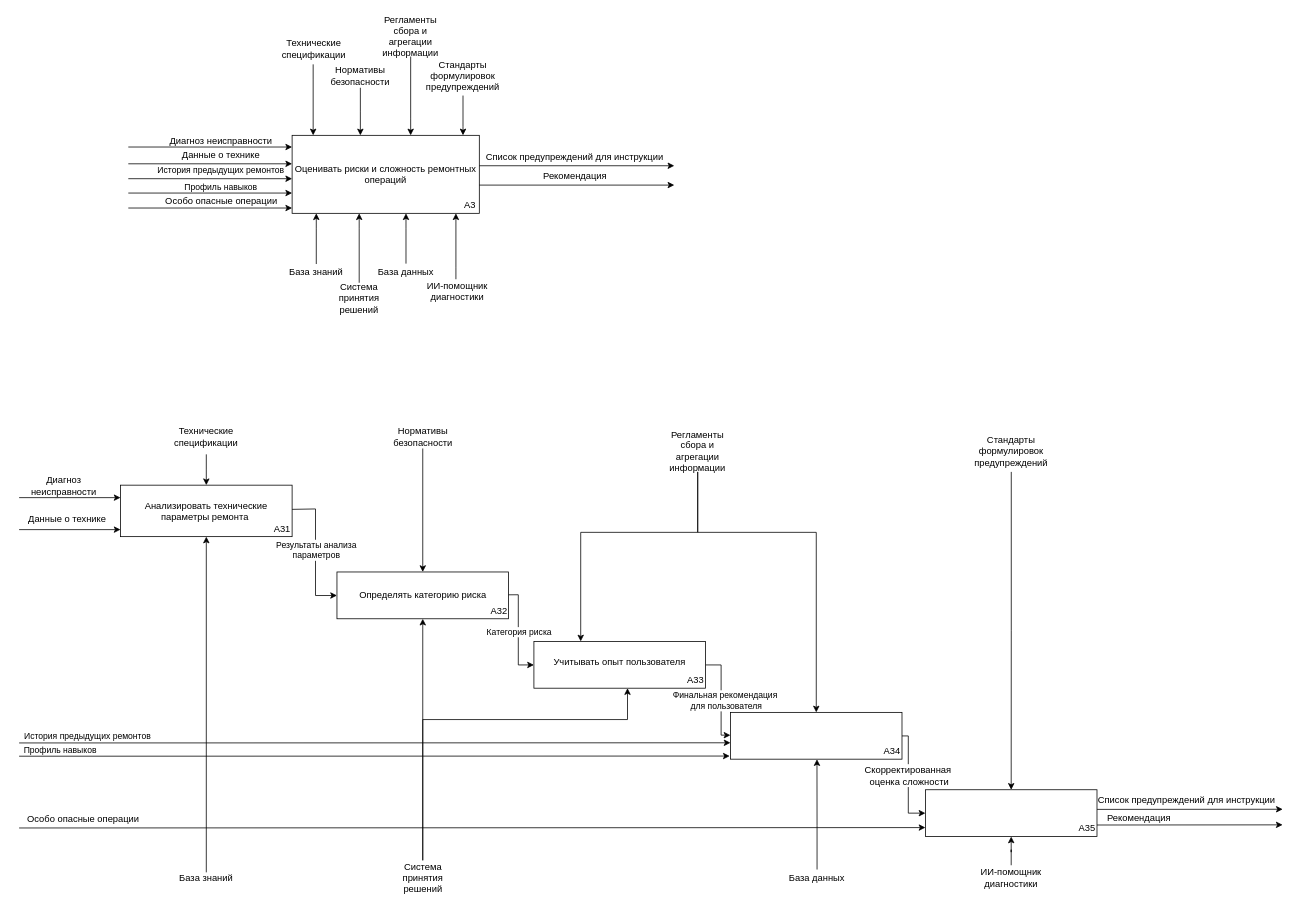
The diagram is 1303 pixels wide and 909 high, and some of its shapes have lost their labels. Each missing label, with the box of its shape:
Генерировать предупреждения: (730, 712, 902, 759)
Формировать итоговую рекомендацию: (925, 789, 1097, 837)
